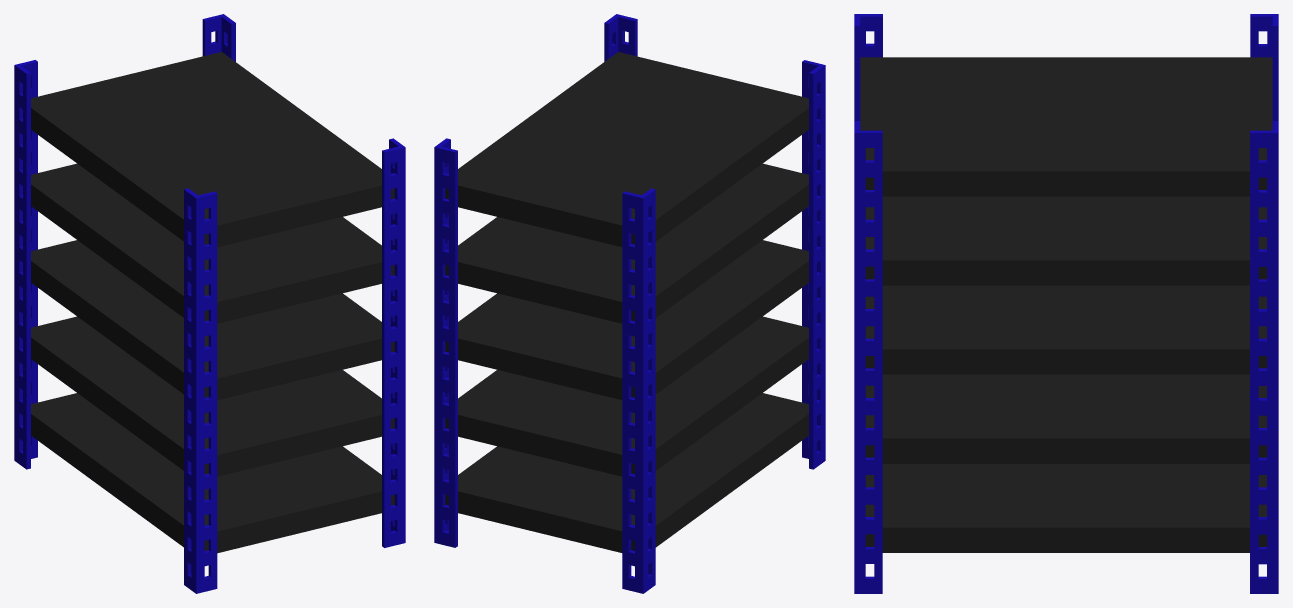
The model's file is Estante.fbx.
3 views of the same model, side by side, from view 1: azimuth 30°, elevation 25°; view 2: azimuth 150°, elevation 25°; view 3: azimuth 270°, elevation 25° (orthographic). The views are drawn at different scales.
Parts seen in each view (by area): view 1: Box088; view 2: Box088; view 3: Box088.
Boxes of the visible parts, x1=… form: Box088: x1=14, y1=14, x2=405, y2=593; Box088: x1=434, y1=14, x2=825, y2=593; Box088: x1=854, y1=14, x2=1278, y2=593.
Size of the model in its own units: 99.2 by 179 by 149.
